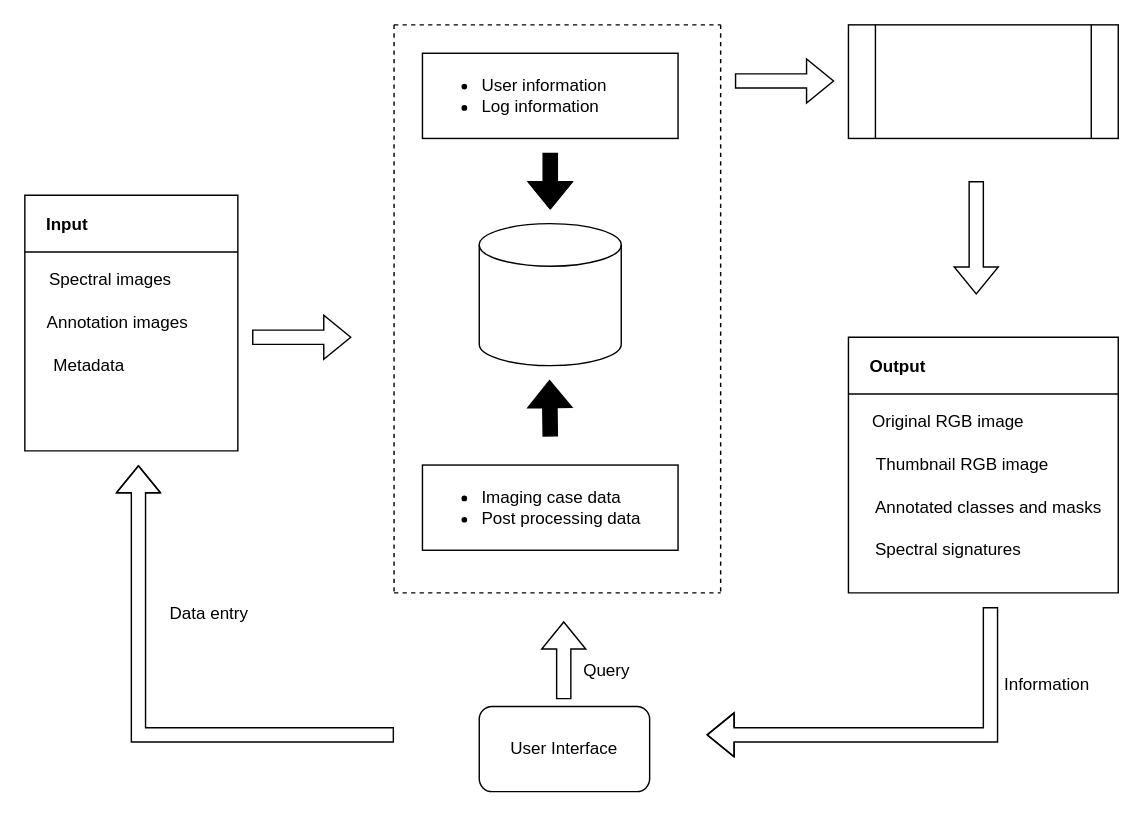
The diagram is 1143 pixels wide and 817 high, and some of its shapes have lost their labels. The shapes that lost their labels are listed below. From the top down, each one's centre as x and y in pixels, then its label:
the point at 982,80: Abstraction Analysis Retrieval
the point at 549,294: Database
